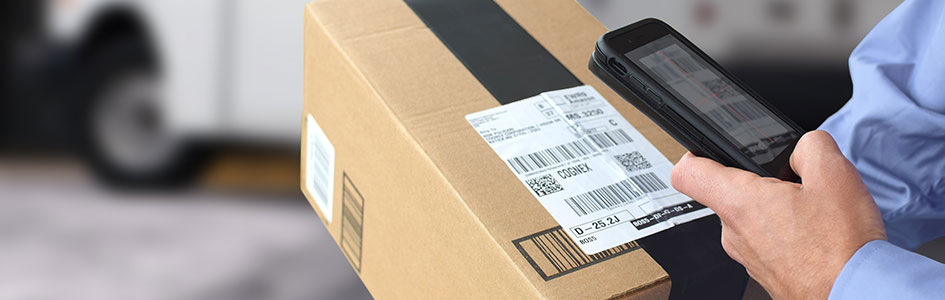barcode: (501, 124, 637, 171), (558, 182, 669, 212)
